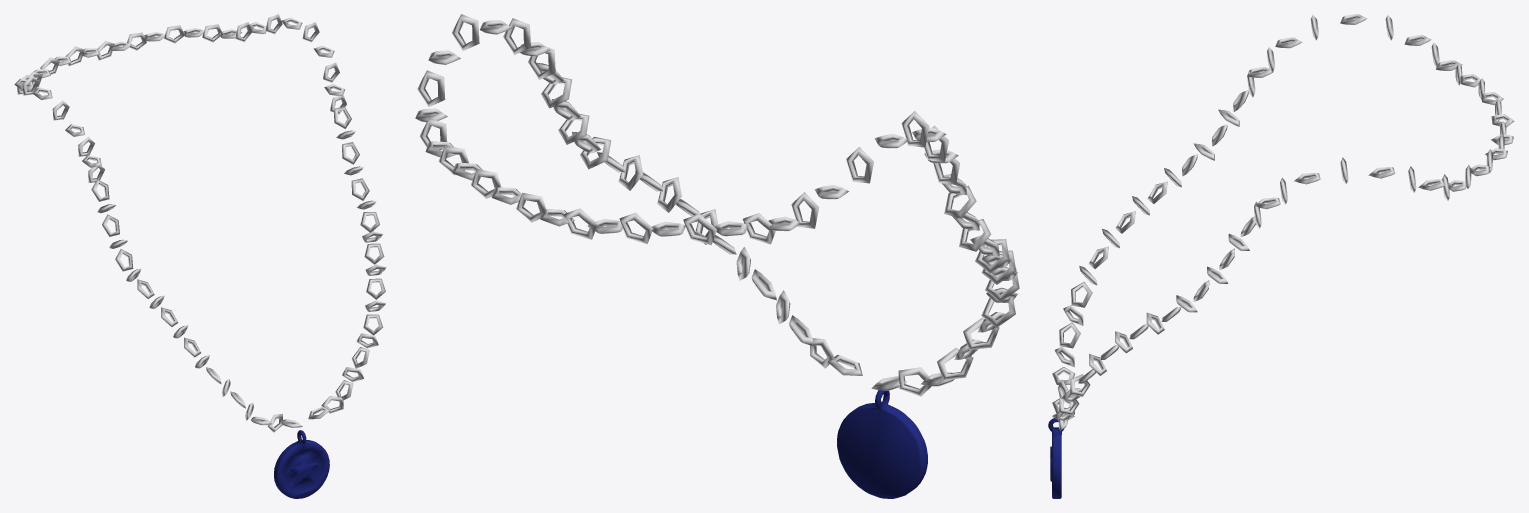
File: acc_chain.glb
The picture shows the model from 3 angles, left to right: view 1: azimuth 30°, elevation 25°; view 2: azimuth 150°, elevation 25°; view 3: azimuth 270°, elevation 25°; orthographic projection. The views are drawn at different scales.
Visible parts, largest first — view 1: acc_chain_0_metal, acc_chain_1_secondary; view 2: acc_chain_0_metal, acc_chain_1_secondary; view 3: acc_chain_0_metal, acc_chain_1_secondary.
Part boxes in pixels (x1=…): acc_chain_0_metal: x1=14, y1=14, x2=386, y2=432; acc_chain_1_secondary: x1=274, y1=430, x2=329, y2=498; acc_chain_0_metal: x1=415, y1=14, x2=1019, y2=396; acc_chain_1_secondary: x1=837, y1=390, x2=927, y2=498; acc_chain_0_metal: x1=1052, y1=14, x2=1514, y2=430; acc_chain_1_secondary: x1=1048, y1=418, x2=1064, y2=498.
Bounding box in the file's own units: 0.1856 × 0.2221 × 0.2279.
